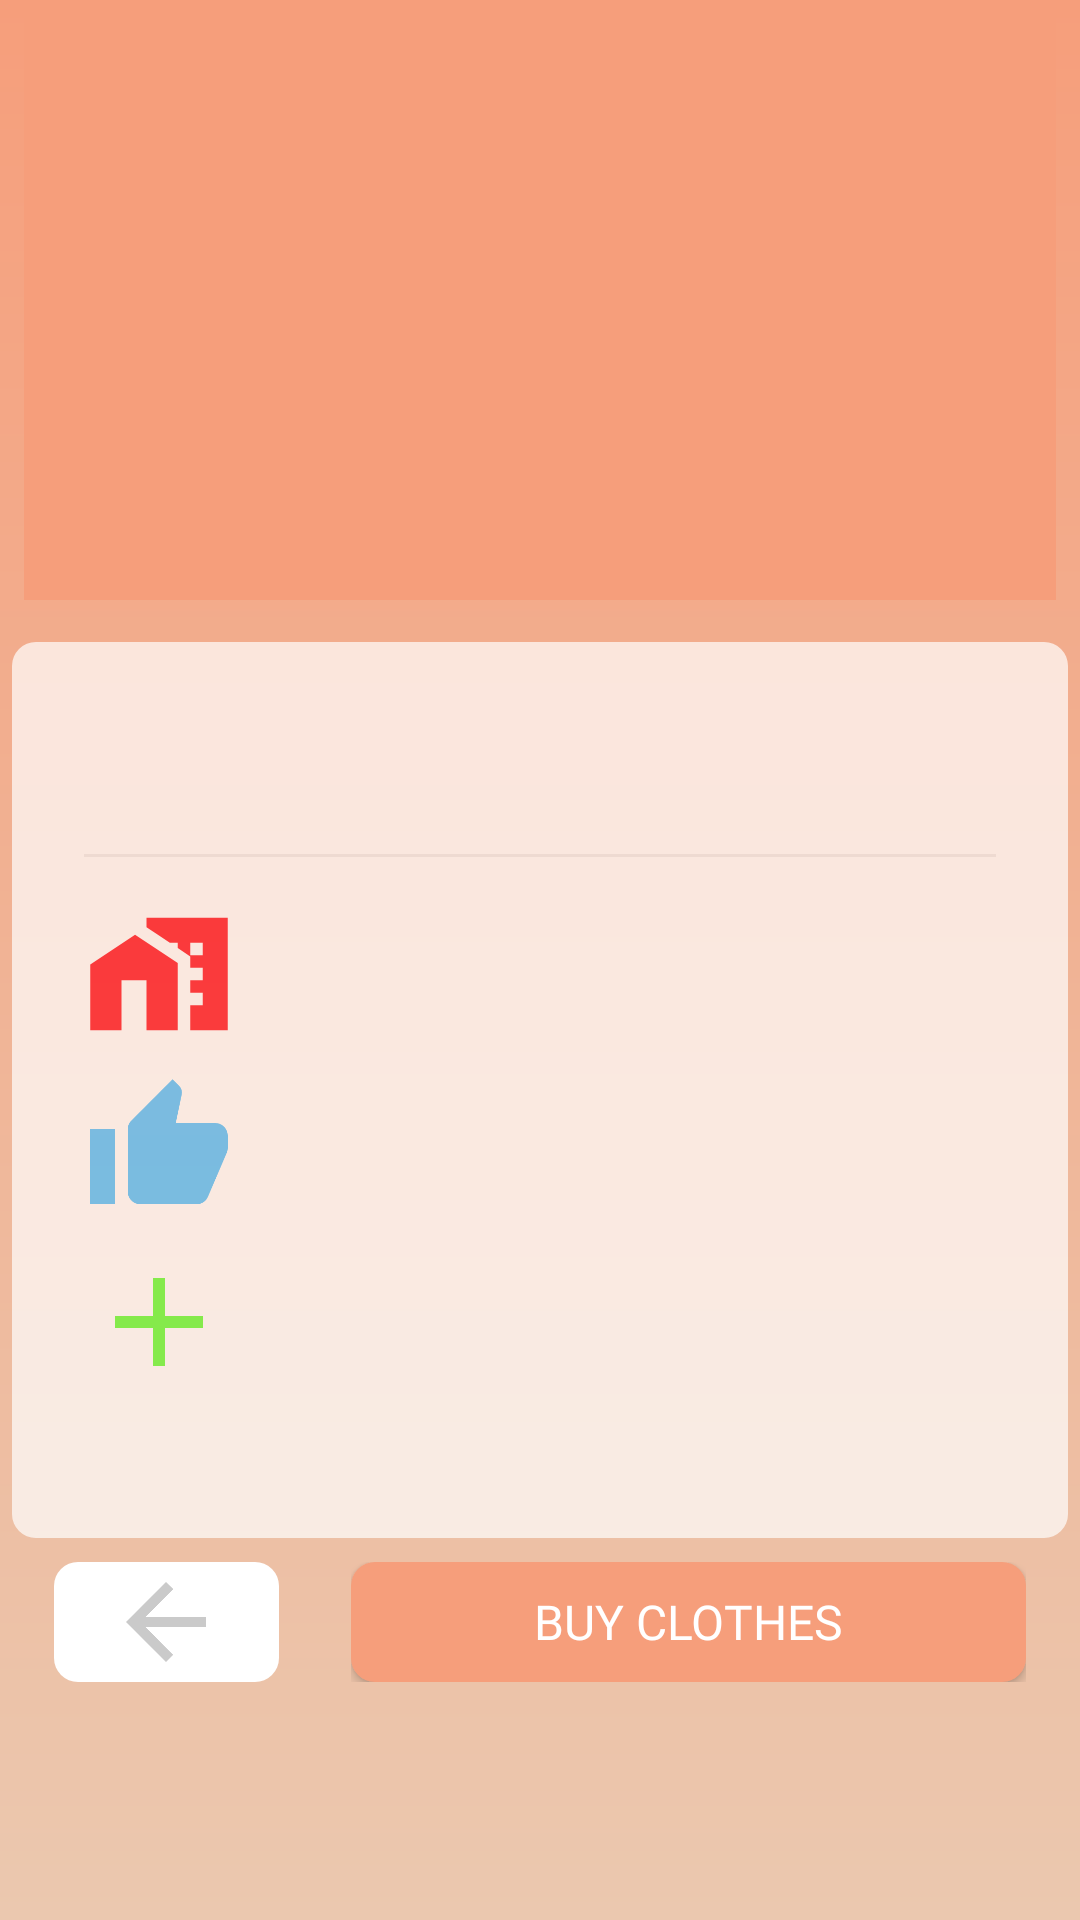

Where to tap for icons on this 1080×1920 app screen, as (x,y):
back: (166,1622)
kelebihan: (159,1322)
kualitas: (159,1141)
